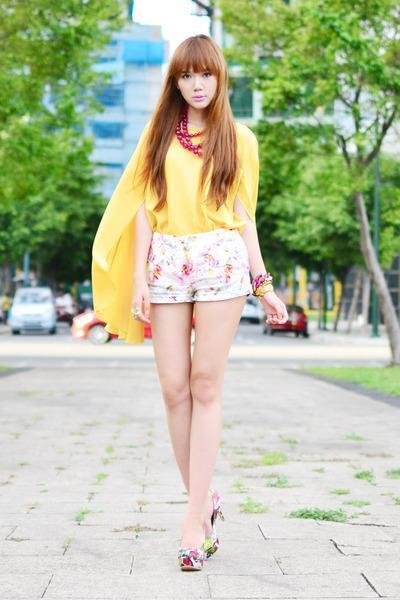shirt: (92, 119, 266, 343)
shoe: (174, 516, 220, 565)
shorts: (152, 229, 272, 302)
